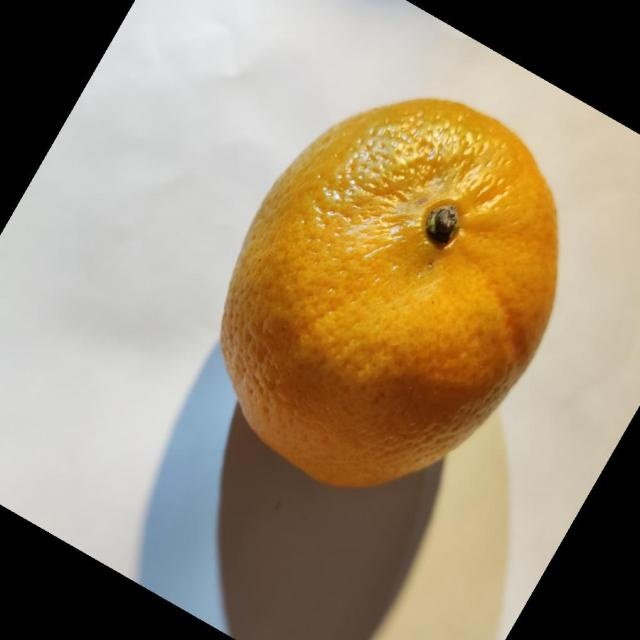agrume: (219, 96, 560, 488)
